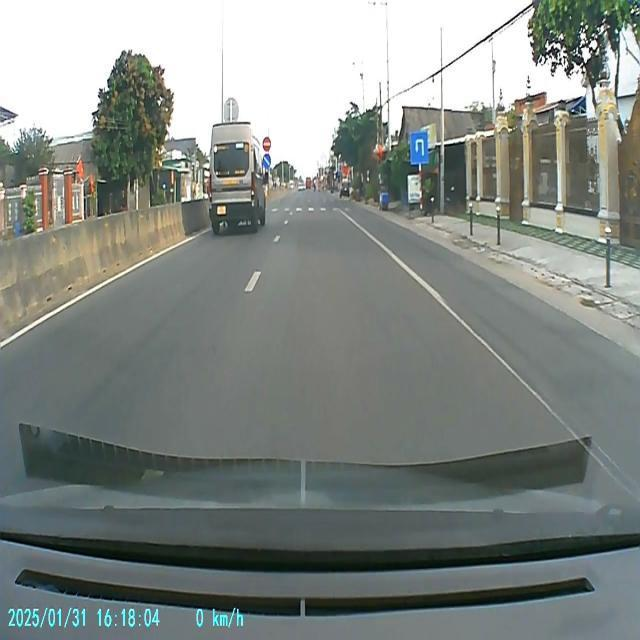102-cam-di-nguoc-chieu: (262, 137, 272, 151)
302a-huong-phai-di-vong-chuong-ngai-vat-1: (262, 154, 272, 168)
